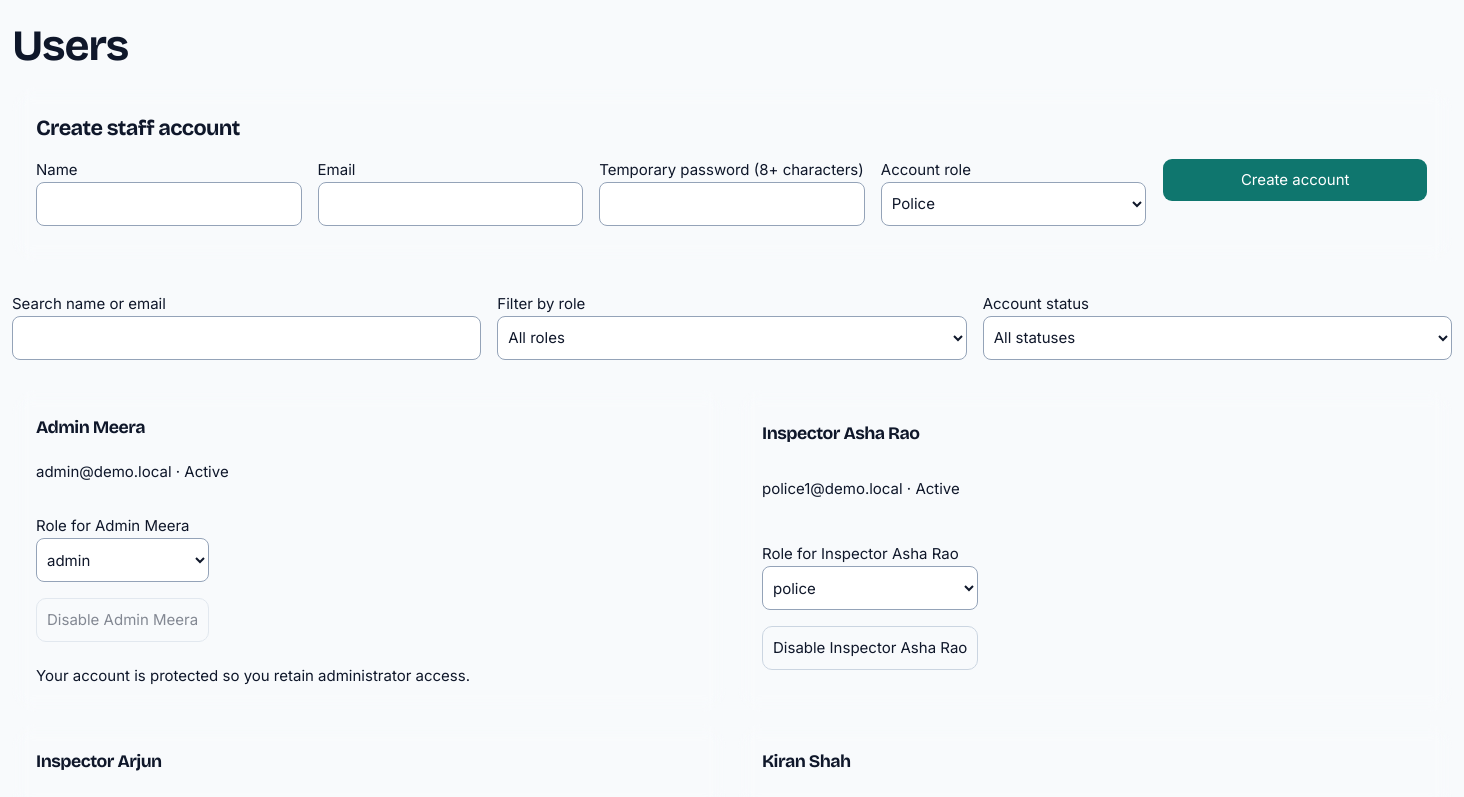
keeps a duplicate account form open with an email-specific error
The image size is (1464, 797).
Expected: the dropdown labelled "Role for Admin Meera" is shown, [36,538,209,582]
Step 1. Type "Officer" into the field labelled "Name" → [169, 204], box [36,182,302,226]
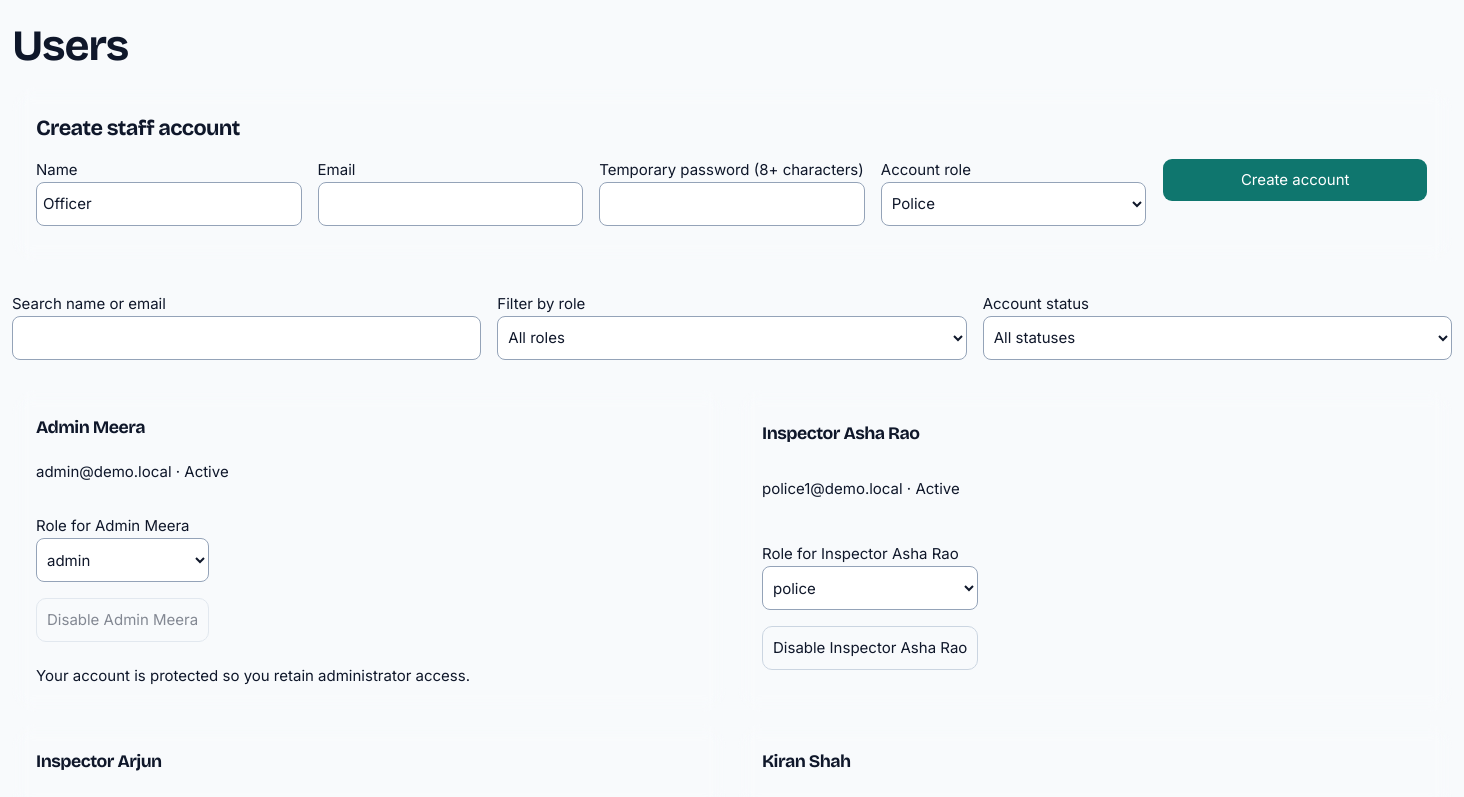
Step 2. Type "officer@example.org" into the field labelled "Email" → [450, 204], box [318,182,583,226]
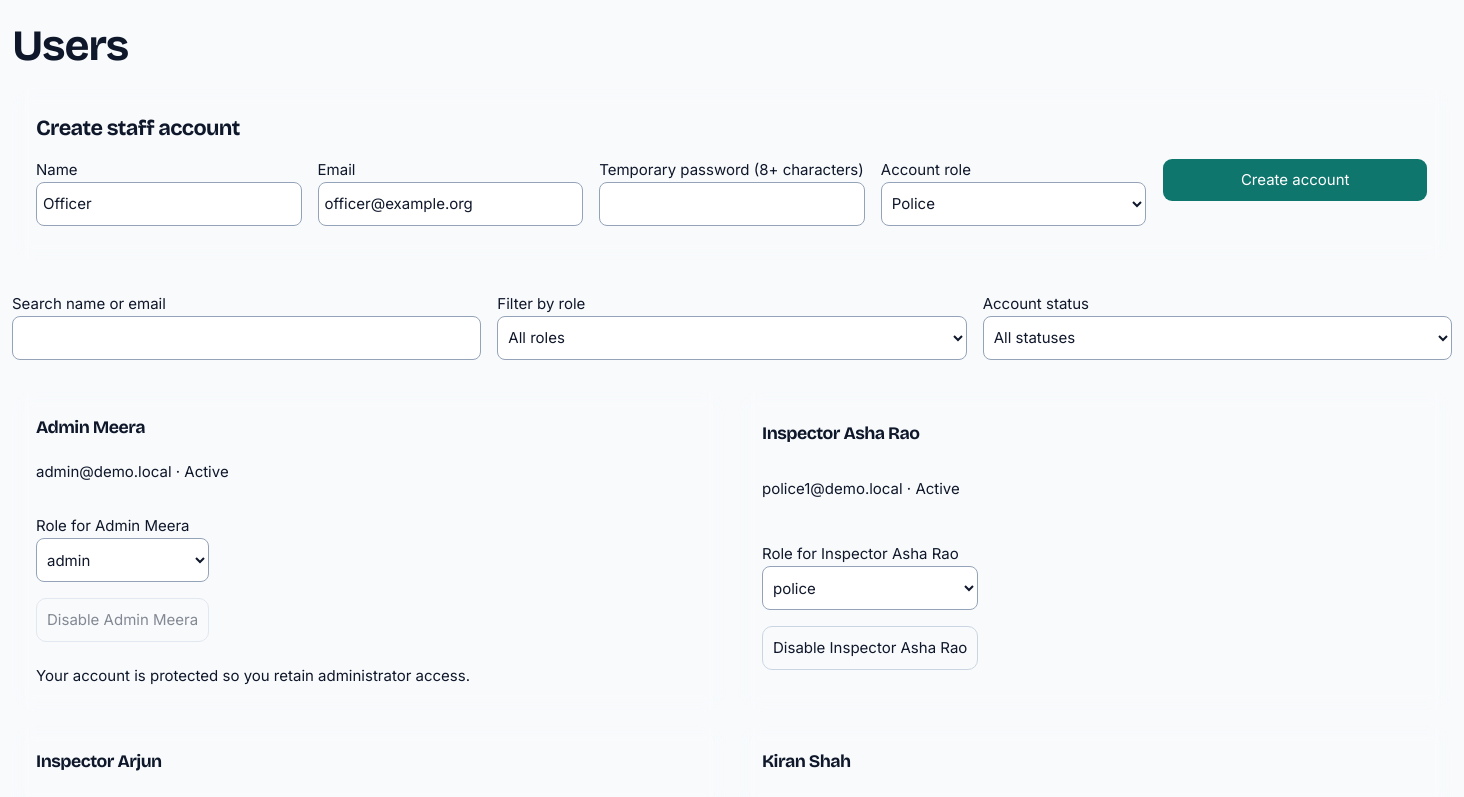
Step 3. Type "local-demo-123" into the password field labelled "Temporary password (8+ characters)" → [732, 204], box [599,182,865,226]
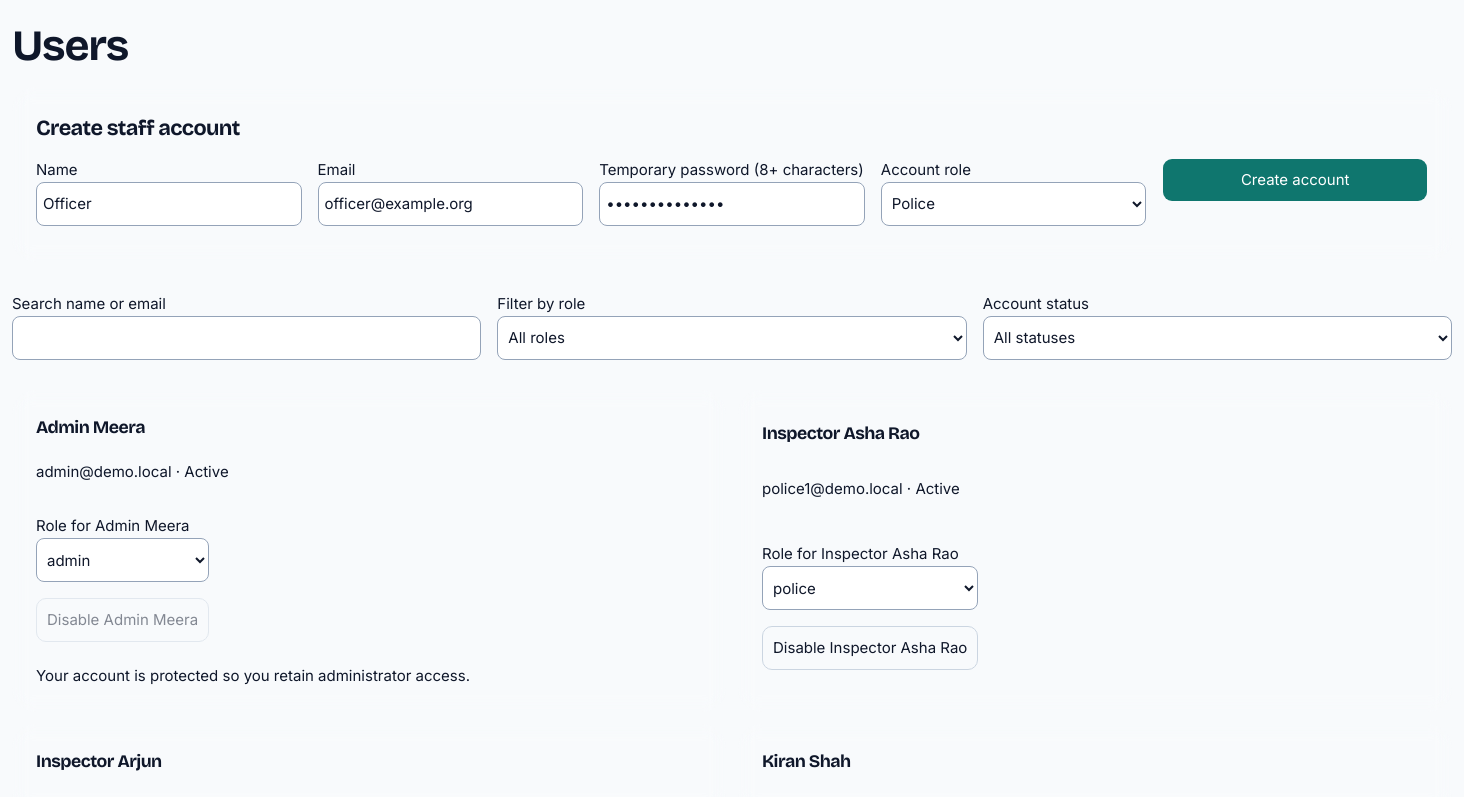
Step 4. Click the button "Create account" → [1295, 180], box [1162,158,1428,202]
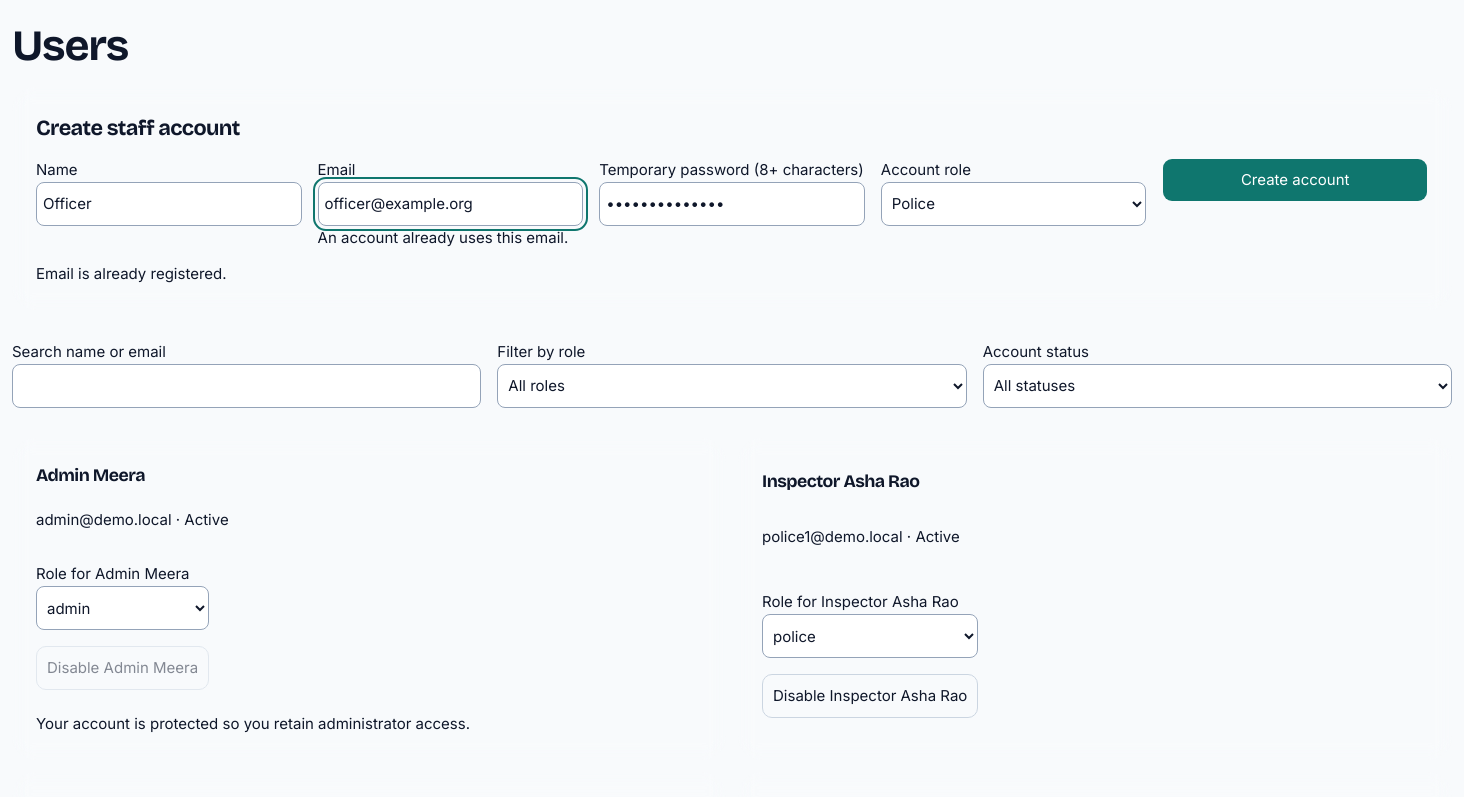
Expected: the text "An account already uses this email." is shown, [318,228,568,247]
